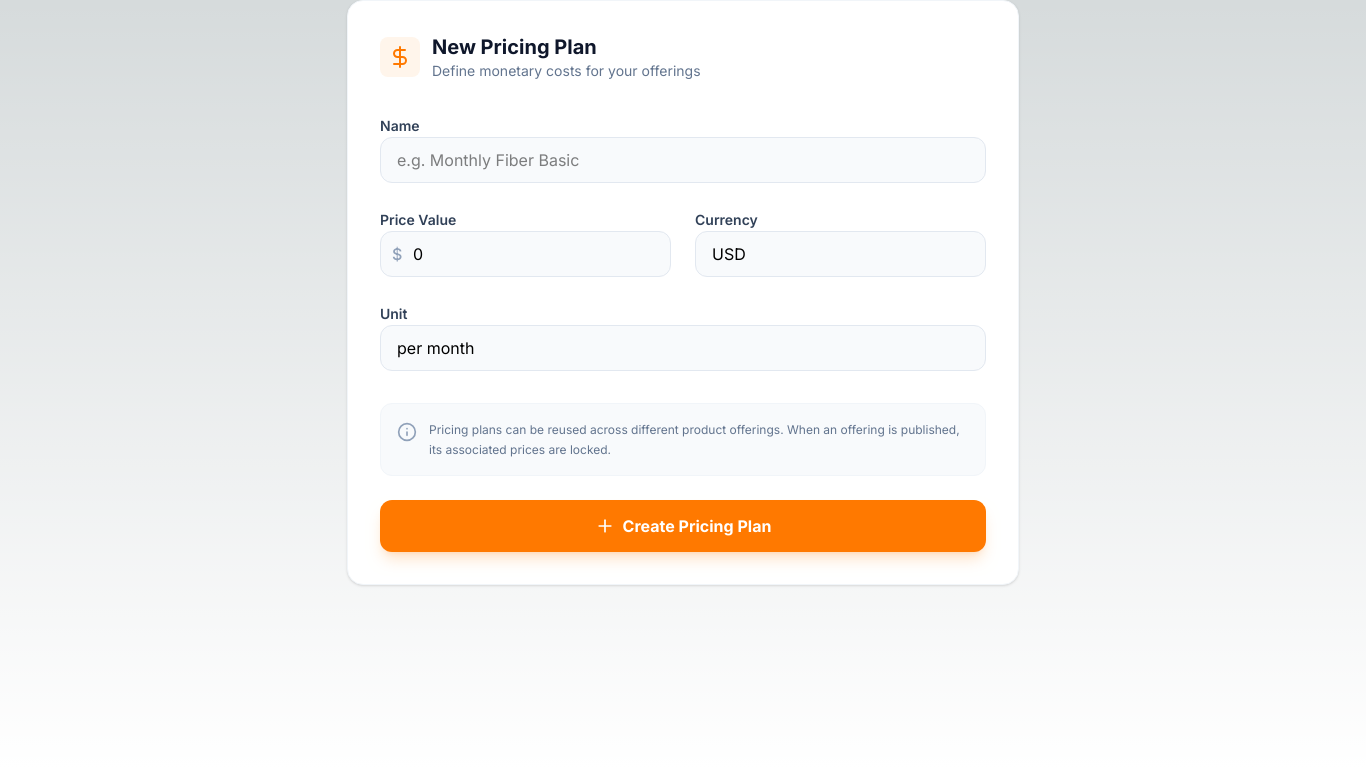
PricingForm › validates positive price
In the field labelled "Name": (683, 160) [380,137,986,183], type "Bad Price"
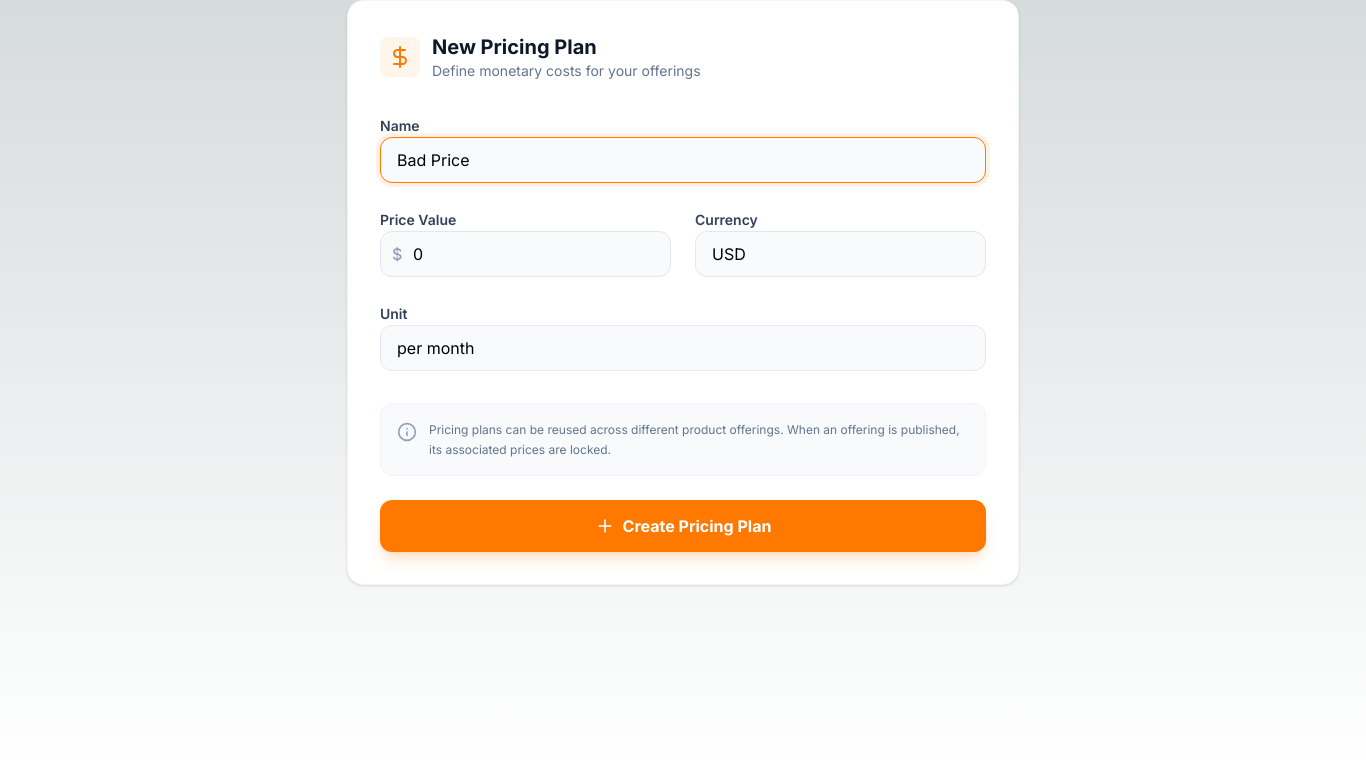
Replace the text in the number field labelled "Price Value" with "-5": (526, 254) [380,231,671,277]
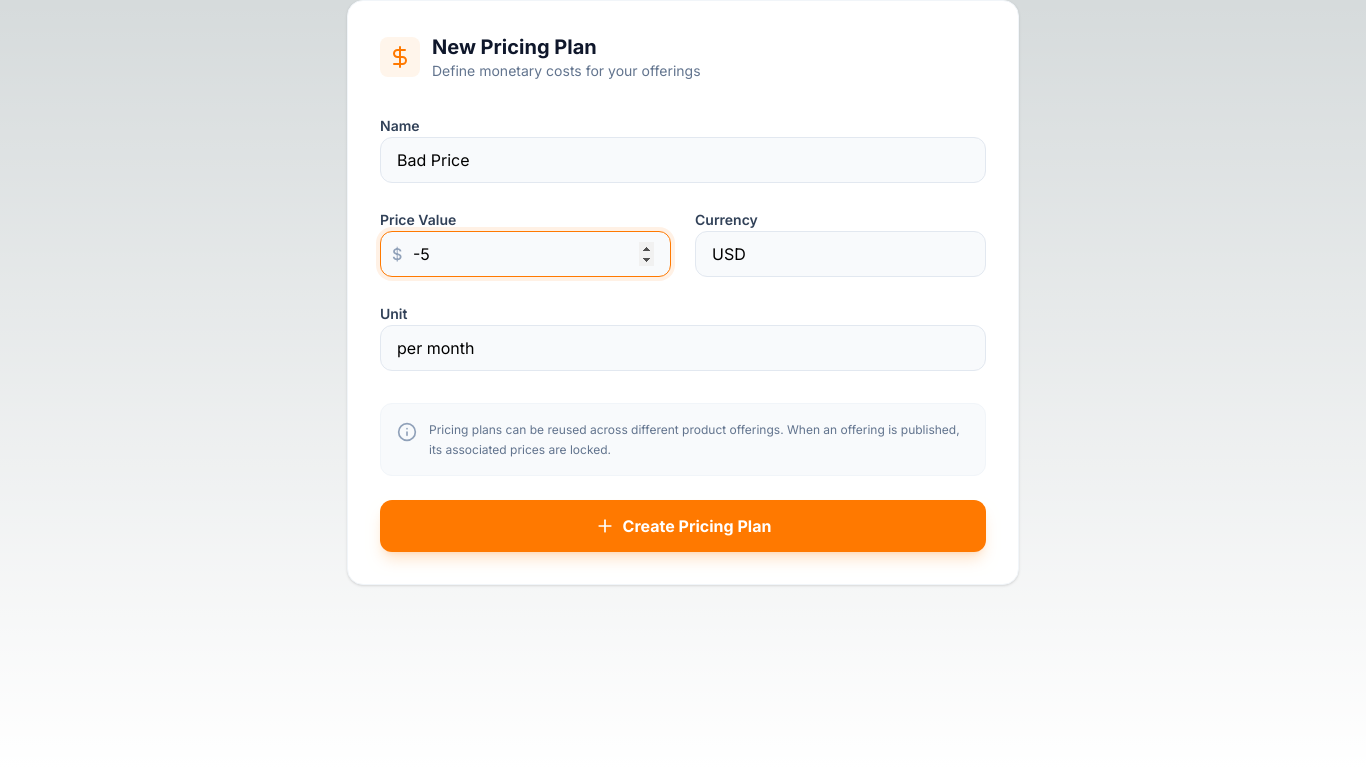
Click the button "Create Pricing Plan": (683, 526) [380,500,986,552]
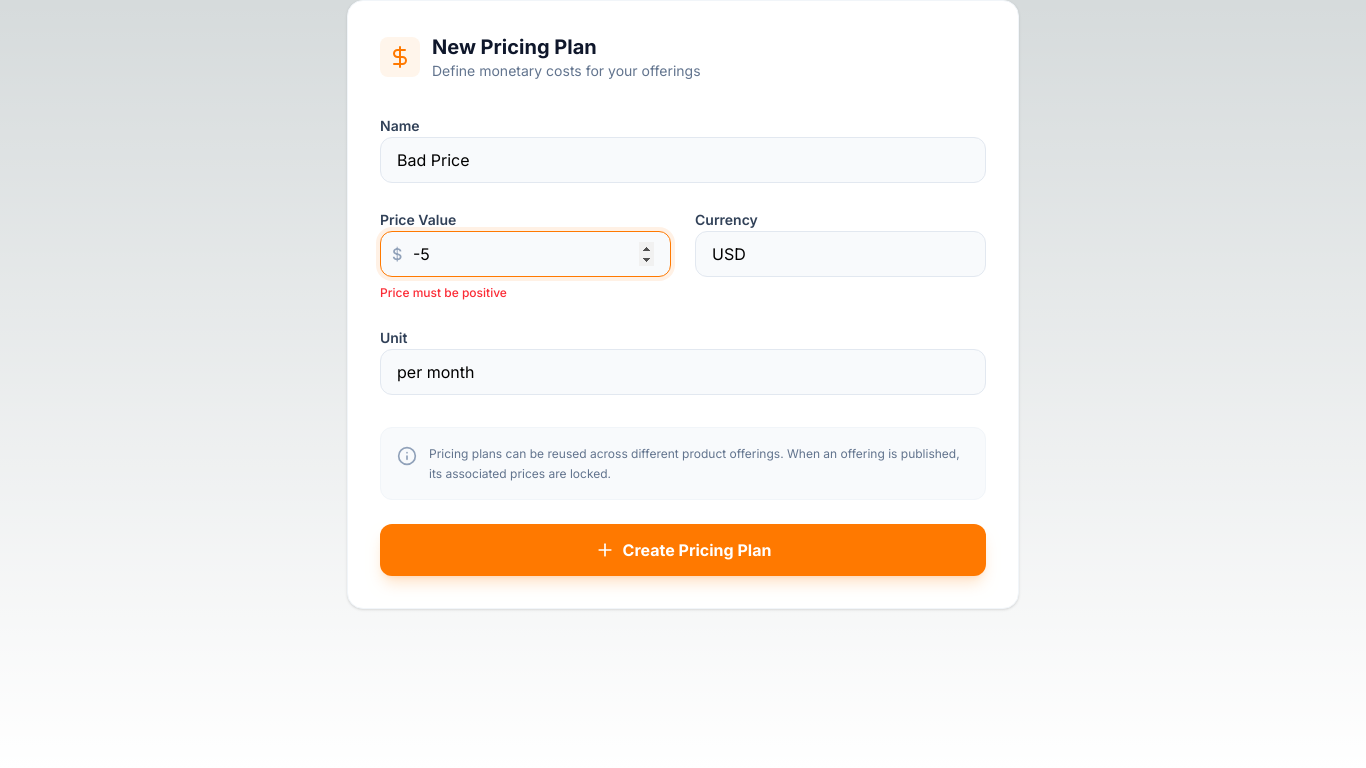
Check: the text "Price must be positive" is shown, box [380,285,507,300]
